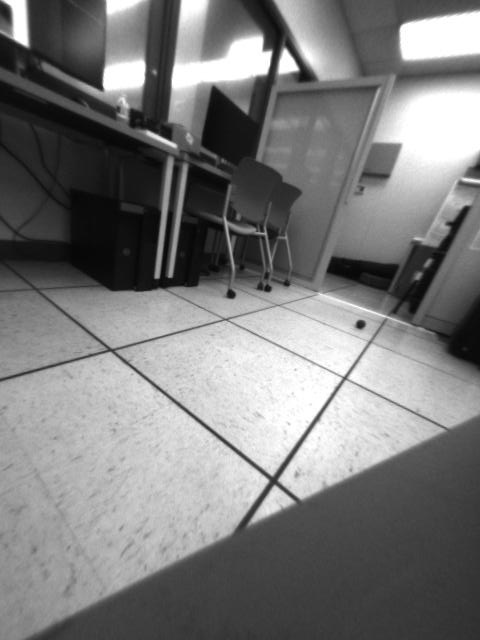dogtoy: (351, 313, 371, 332)
